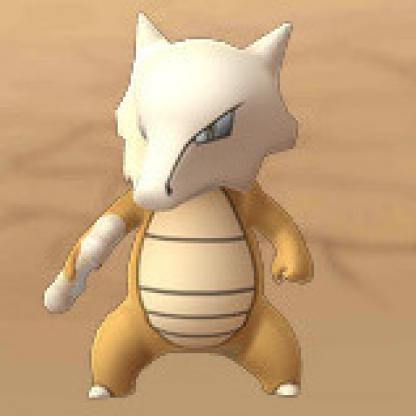Marowak: (59, 2, 337, 405)
